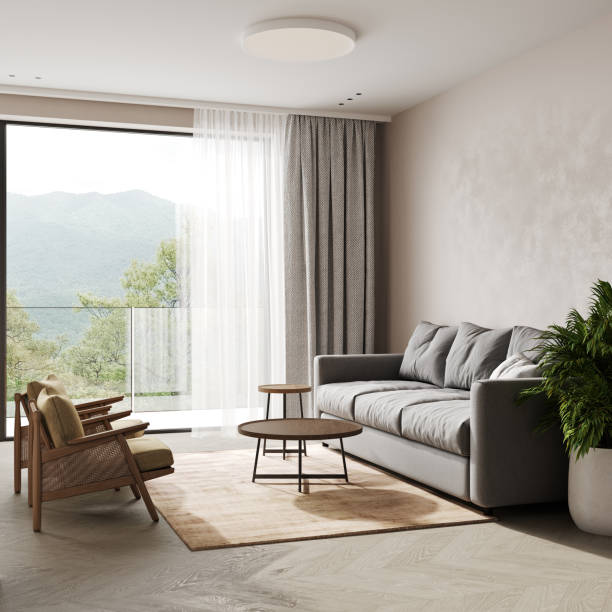chair: (27, 382, 176, 536), (10, 376, 126, 497)
large plant: (545, 284, 612, 541)
sofa: (307, 317, 569, 516)
table: (237, 416, 364, 492)
